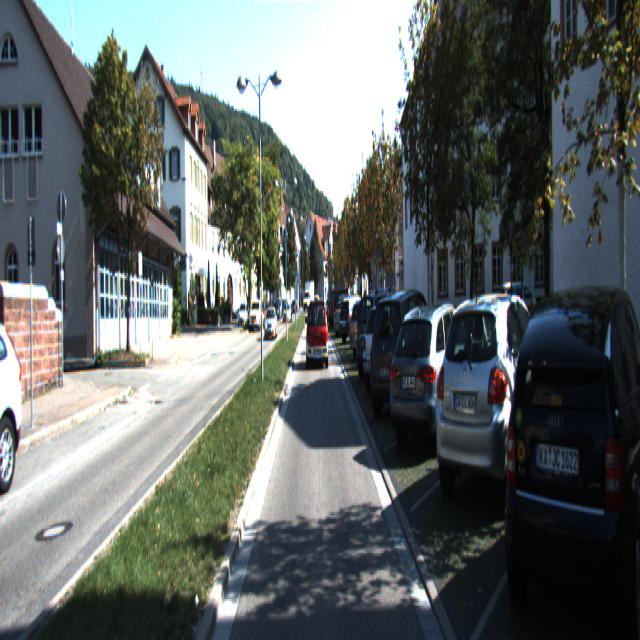Car: (500, 275, 639, 638), (433, 294, 561, 528), (386, 299, 484, 455), (366, 291, 444, 424), (360, 297, 430, 398), (352, 292, 413, 382), (0, 320, 31, 490), (348, 299, 396, 358), (338, 297, 374, 343), (307, 300, 329, 370), (332, 297, 362, 334), (328, 290, 354, 328), (249, 300, 263, 331), (265, 308, 278, 341), (238, 303, 247, 327)
